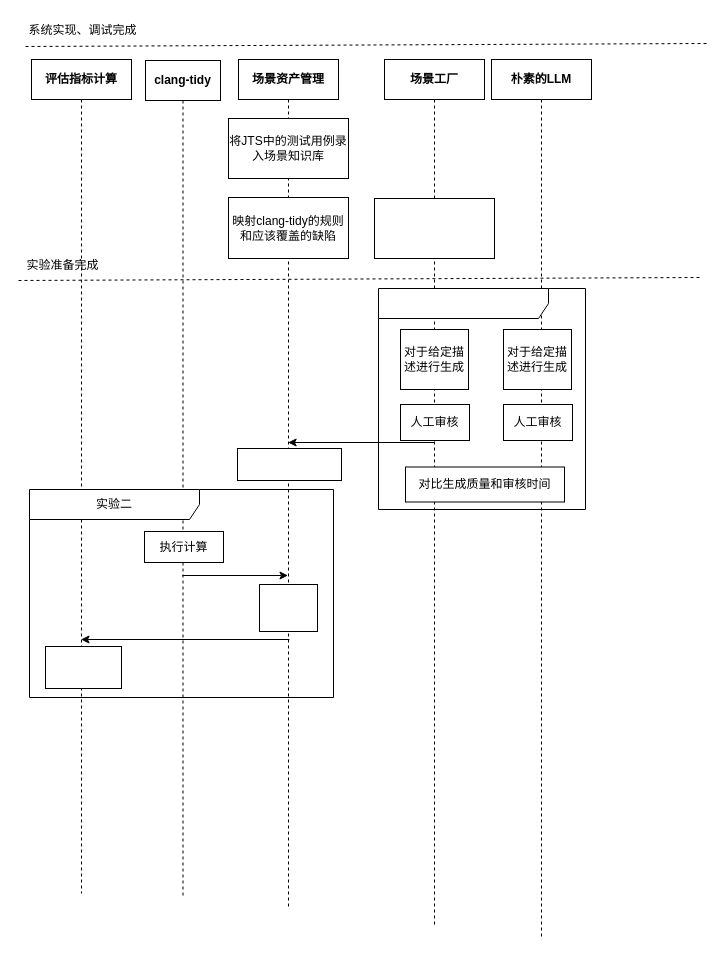
Image size: 727x955. Some labels were removed from this diagram. Here are the shapes that lost their labels. From the top down, the centre of each, then its label:
point 434,228: 根据场景空间的分布正向梳理缺失部分
point 482,399: 实验一
point 289,464: 录入场景
point 288,608: 解析并写回结果
point 83,667: 计算评估指标并分析
